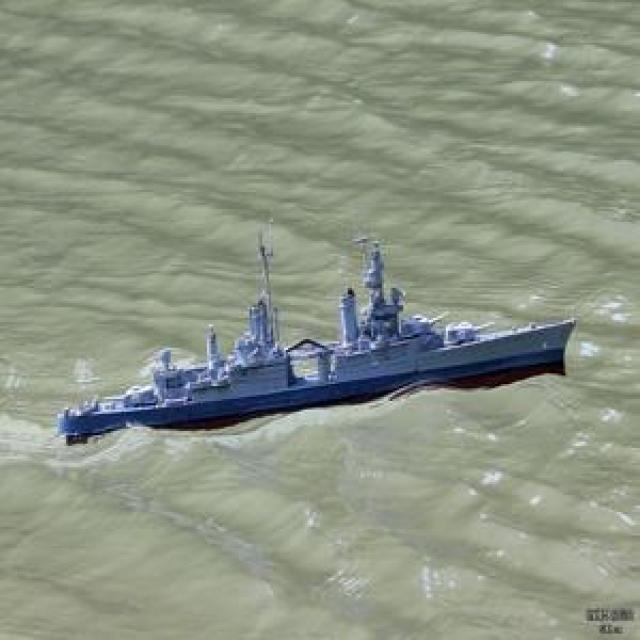navalvessels: (40, 224, 592, 449)
